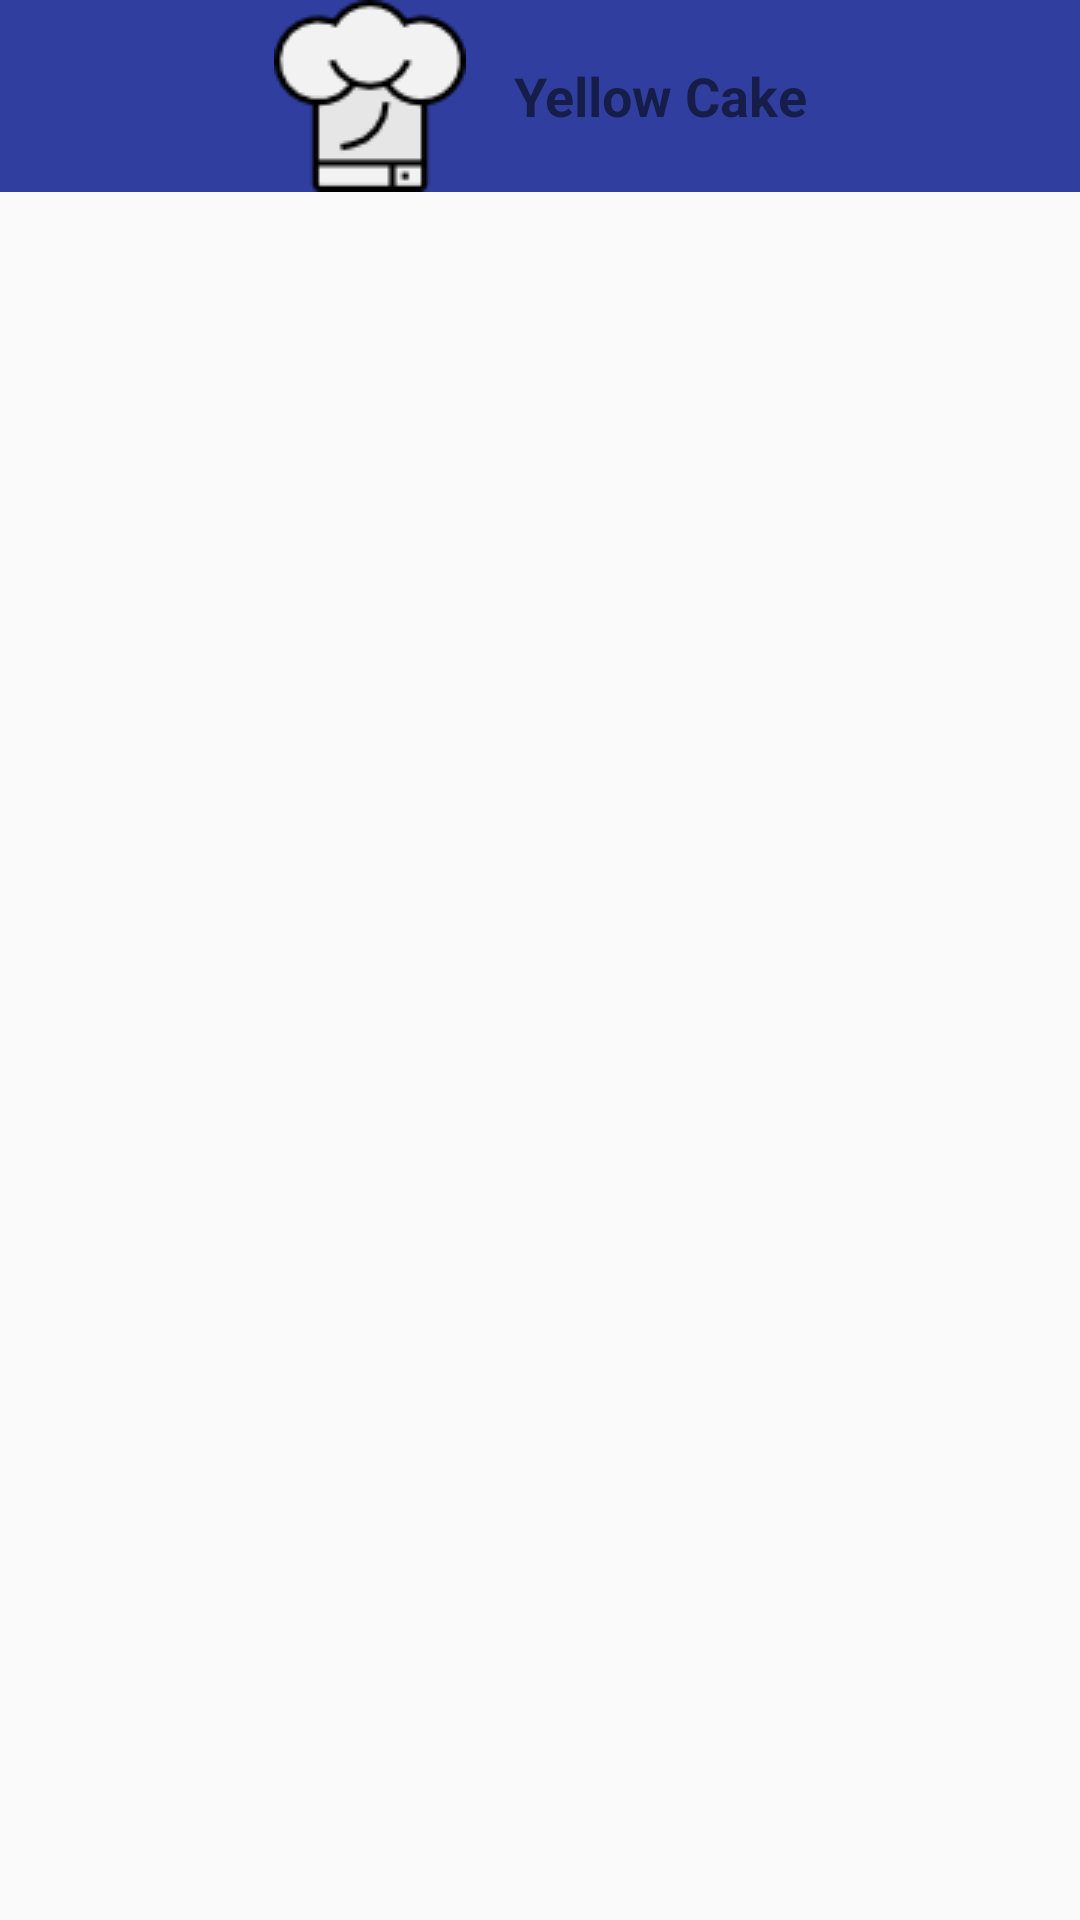

Point at icon controls on the screen. Image size 1080 x 1920, points as (x=x, y=y).
baking hat: (x=370, y=96)
